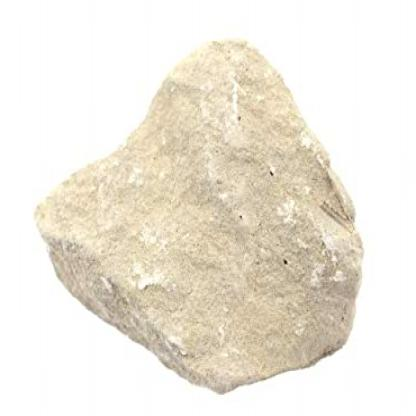Sedimentary_Chalk: (60, 82, 322, 390)
